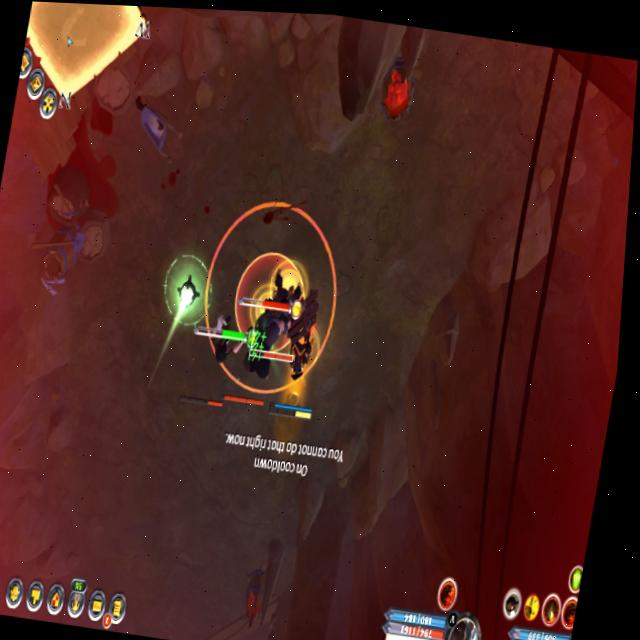ore: (219, 283, 296, 413), (170, 303, 257, 418), (251, 254, 312, 366)
red: (263, 306, 332, 425)
silver: (196, 195, 340, 402)
